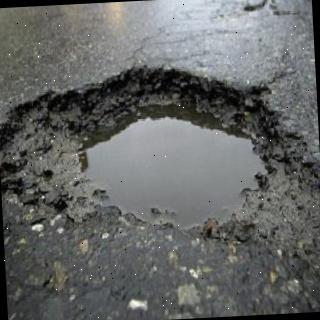pothole: (0, 69, 320, 274)
